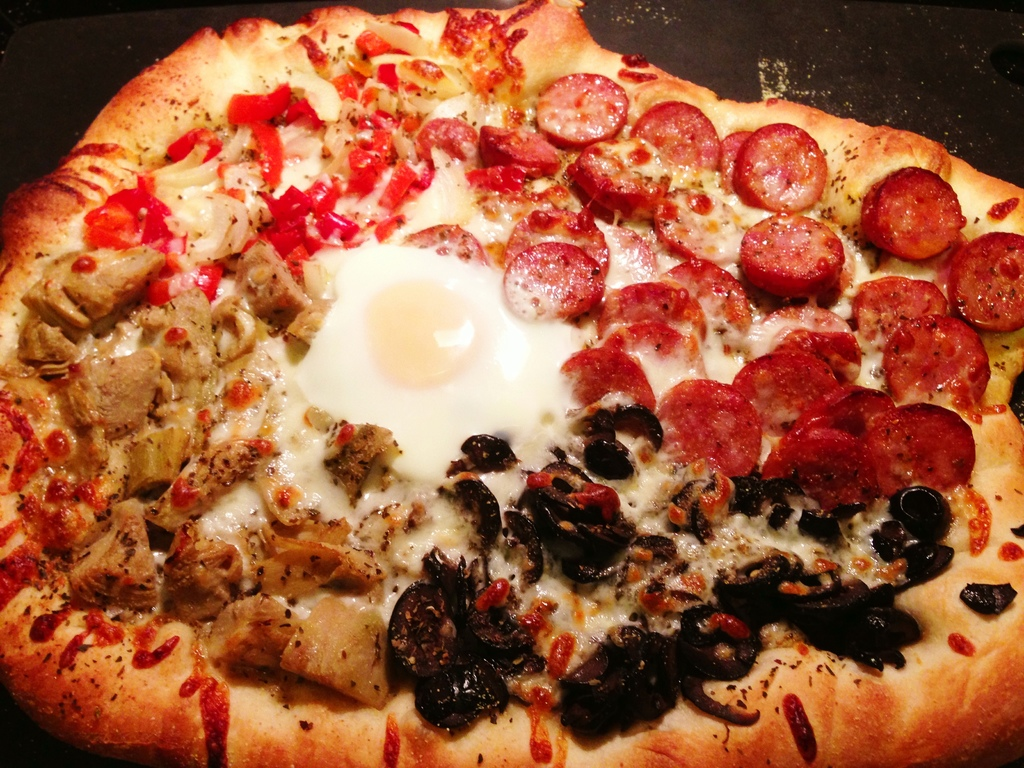Pizza: (0, 25, 1024, 754)
